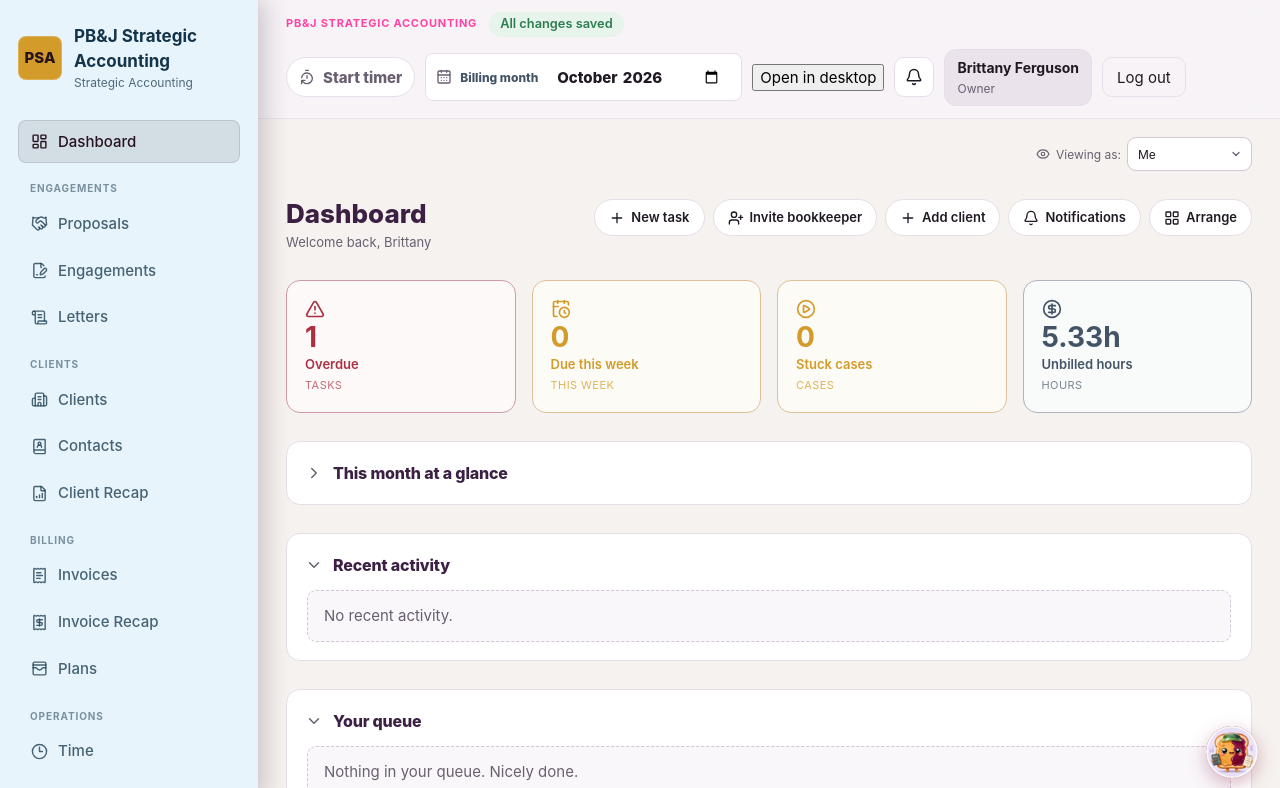
Test: a saved arrangement › a chevron press opens or closes a panel for this visit and saves nothing
Expected: the heading "Dashboard" is shown, [286,199,431,229]
Click the button named "Expand This month at a glance" at (314, 473), box [301,460,327,486]
(page scrolled)
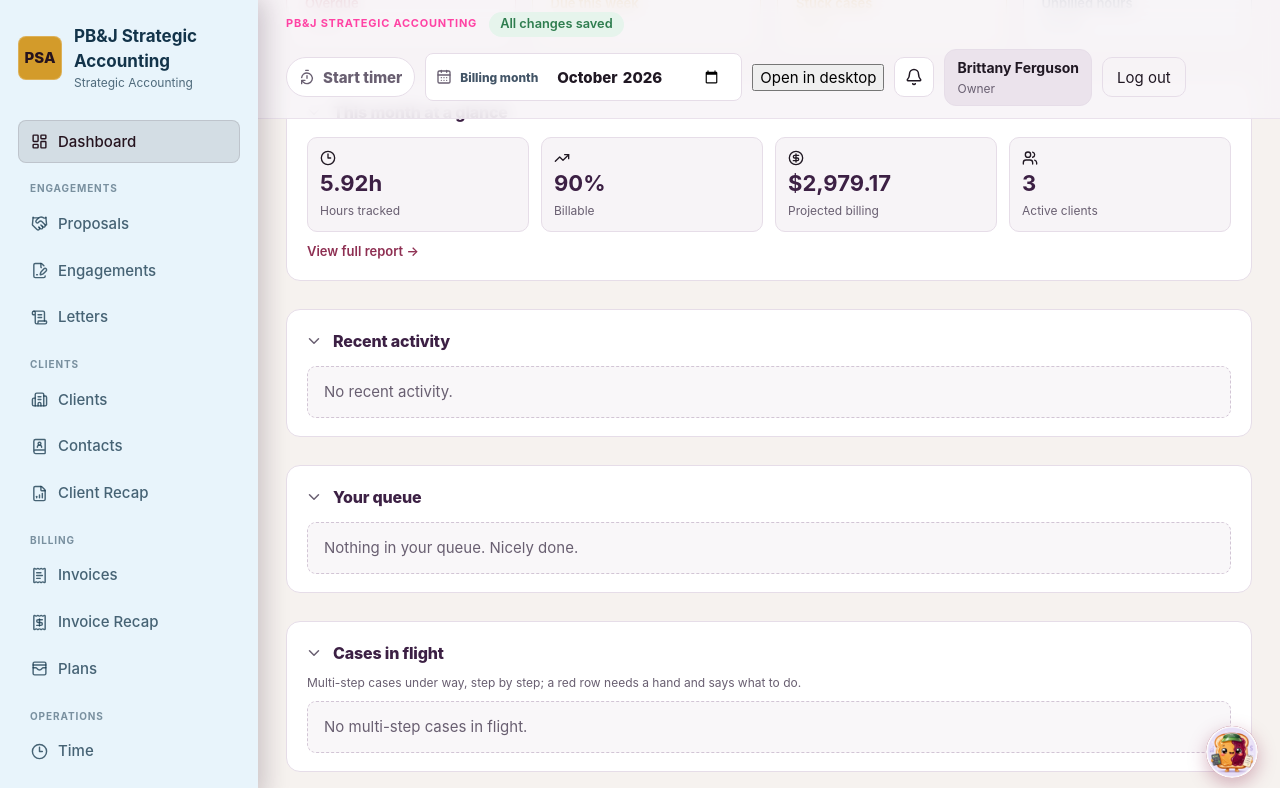
Expected: the text "Hours tracked" is shown, [320,203,400,218]
Click the button named "Collapse Your queue" at (314, 497), box [301,484,327,510]
(page scrolled)
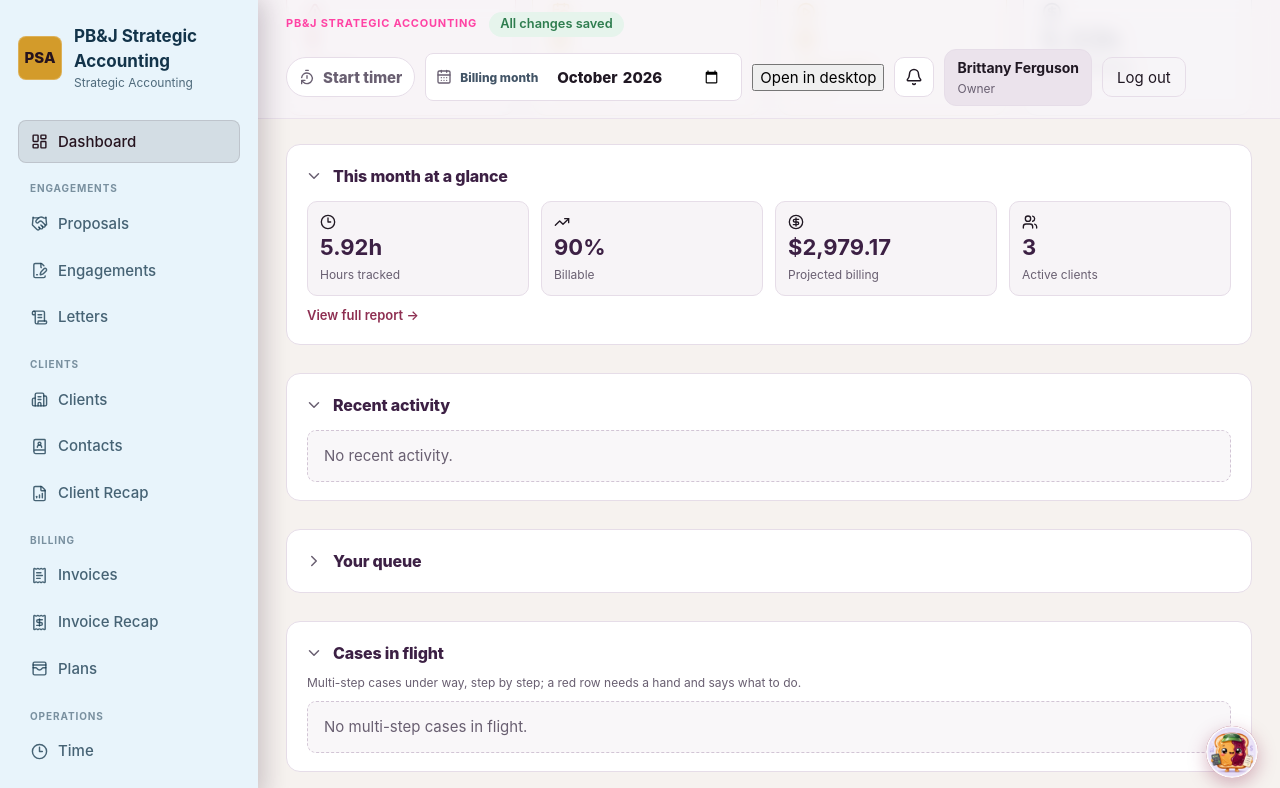
Expected: the button named "Expand Your queue" is collapsed, [301,548,327,574]
